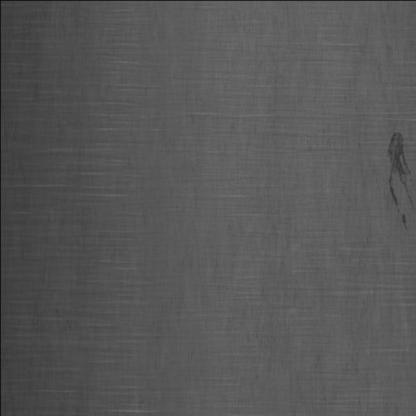water_spot: (382, 116, 416, 246)
